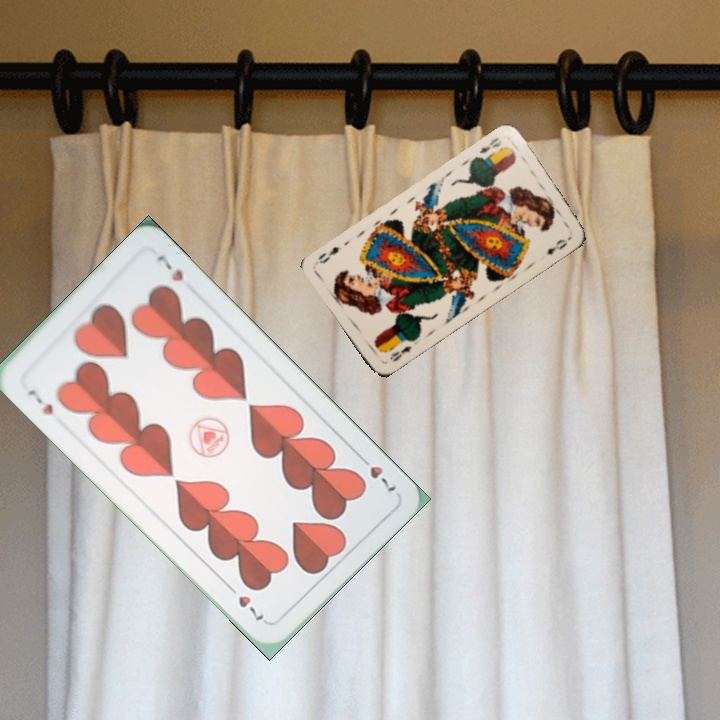EO: (475, 133, 504, 156), (386, 342, 414, 364)
H7: (353, 450, 399, 495), (23, 385, 56, 418)
